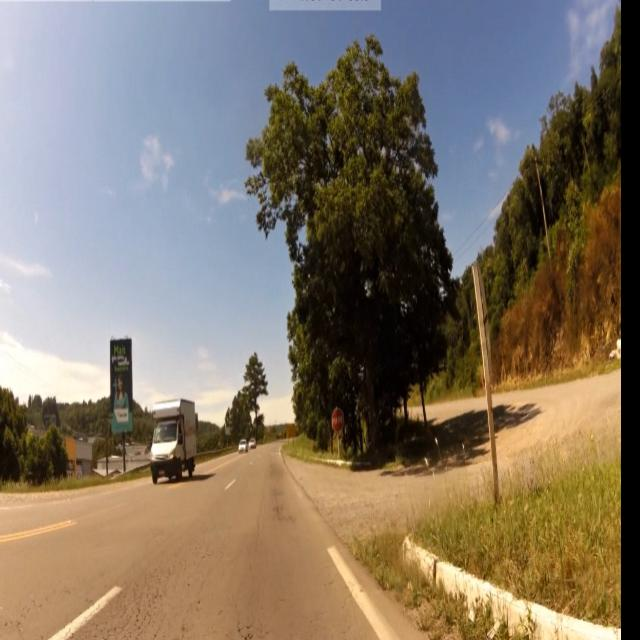R-1: (331, 406, 345, 440)
